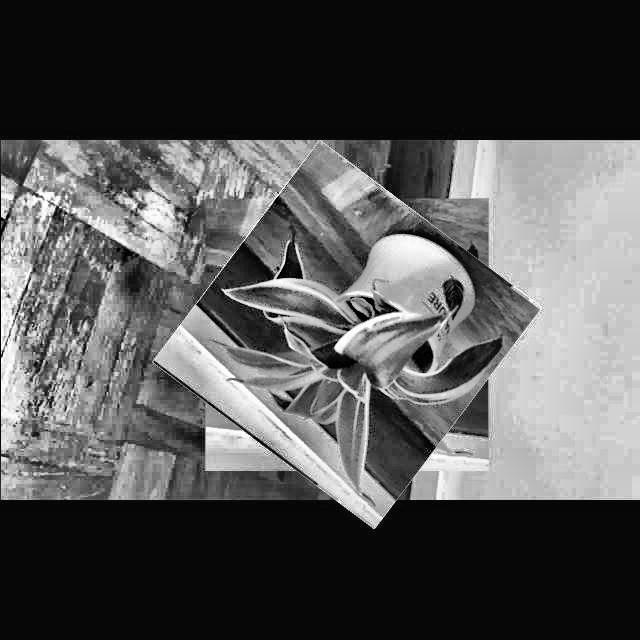plants: (180, 168, 514, 502)
